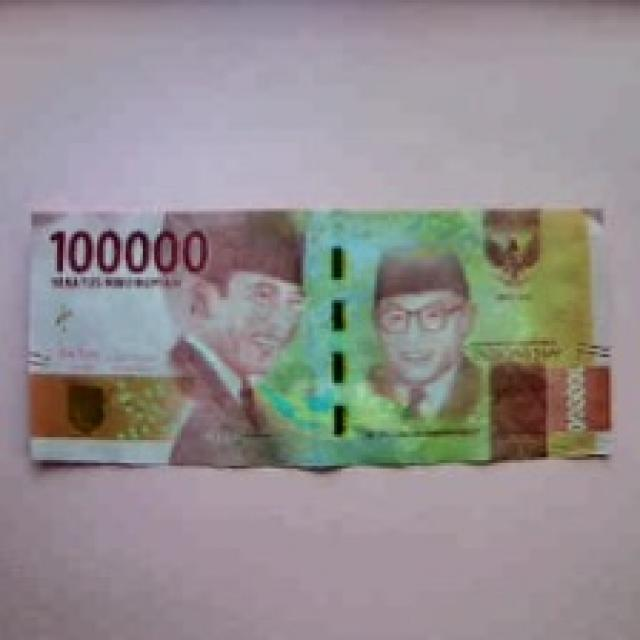lima puluh ribu rupiah: (14, 174, 640, 500)
